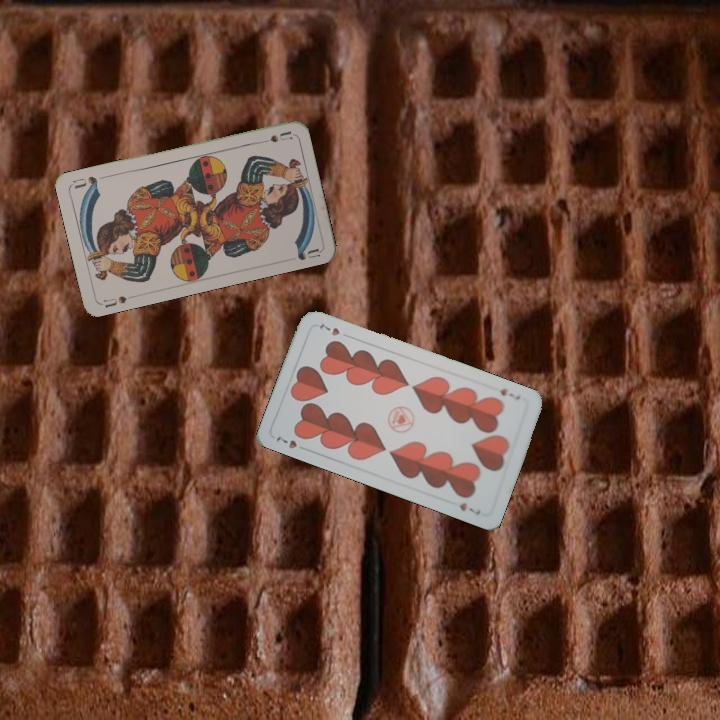H7: (272, 432, 310, 452), (496, 384, 523, 402)
SU: (253, 127, 294, 146), (98, 291, 137, 310)
